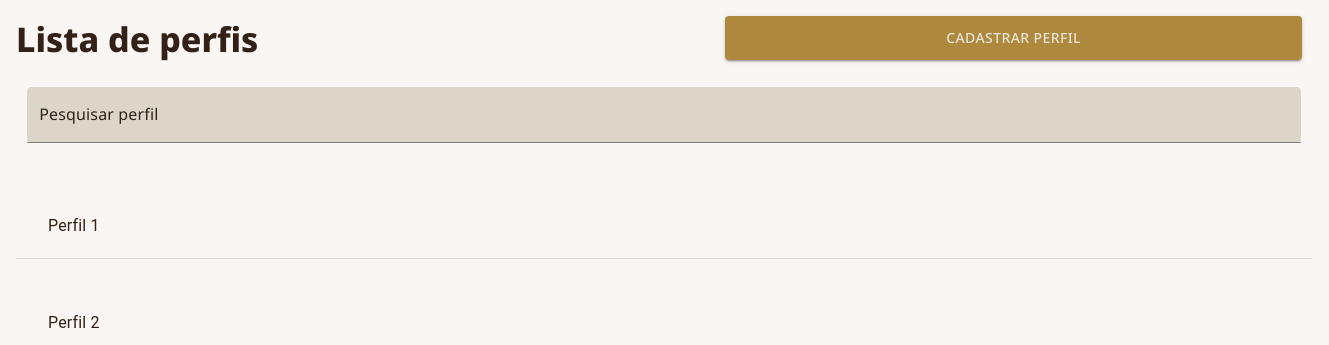
RolesListPage › filters roles based on search input
The image size is (1329, 345).
Type "1" into the field labelled "Pesquisar perfil".
click(664, 115); type("1")  # box [27,87,1301,143]
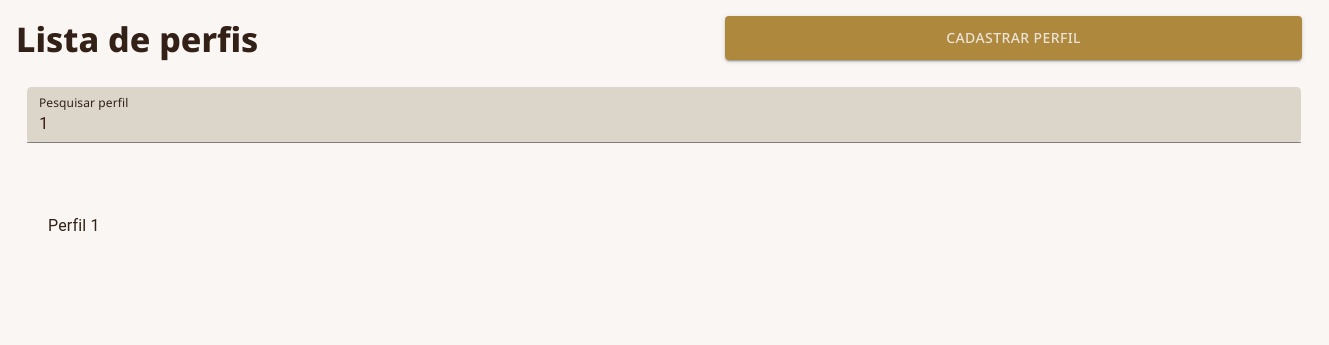
Expected: the text "Perfil 1" is shown, [48,216,100,235]
Expected: the button "Perfil 2" is gone
